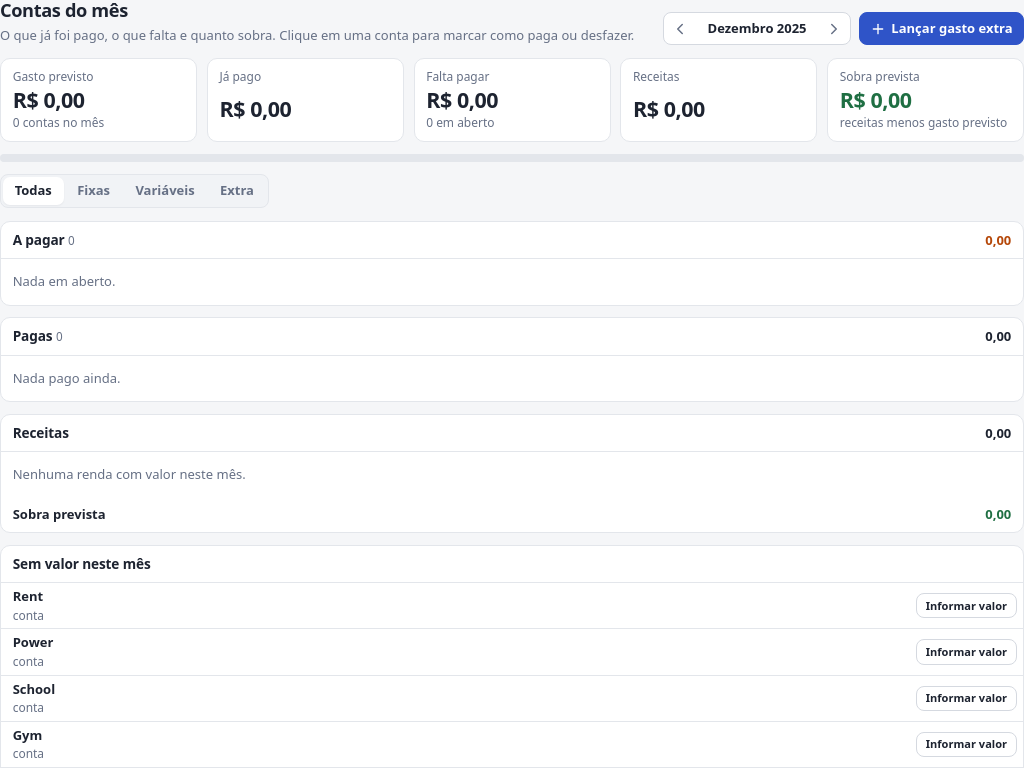
Test case: MonthPage › opens on the month asked for in the address and walks to the next ones, across years
Expected: the element "A pagar" is shown, [0, 221, 1023, 306]
Expected: the text "Dezembro 2025" is shown, [708, 19, 806, 37]
Click the button named "Próximo mês" at (834, 29), box [821, 15, 848, 42]
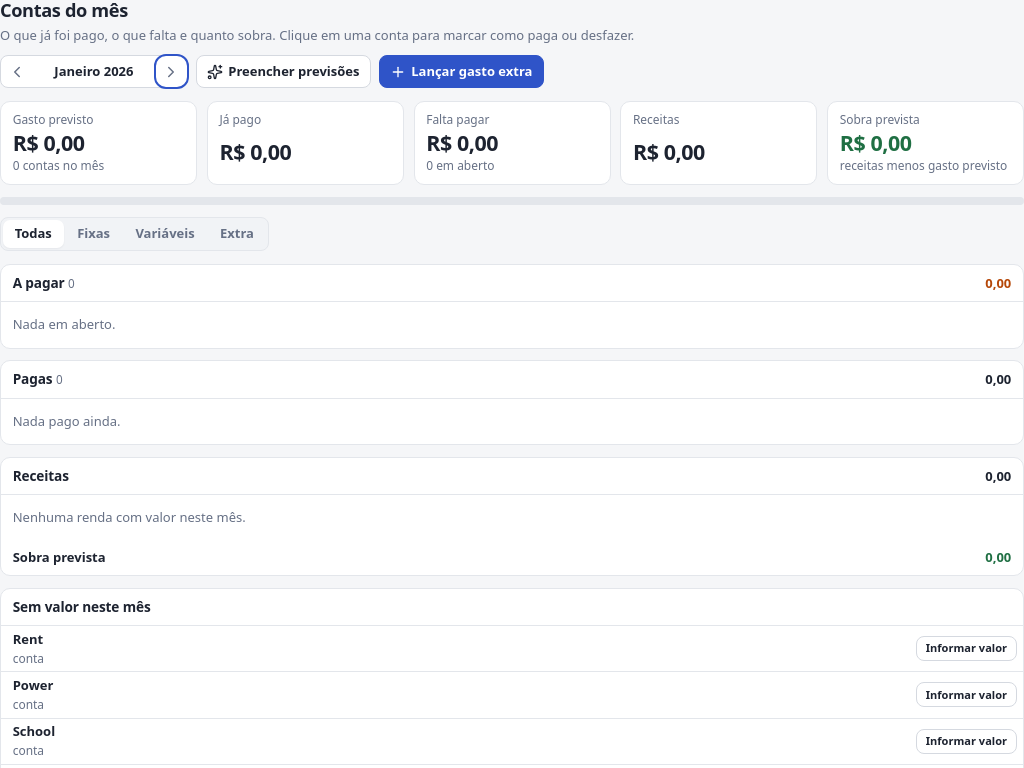
Now the text "Janeiro 2026" is shown, box [54, 62, 134, 80]
